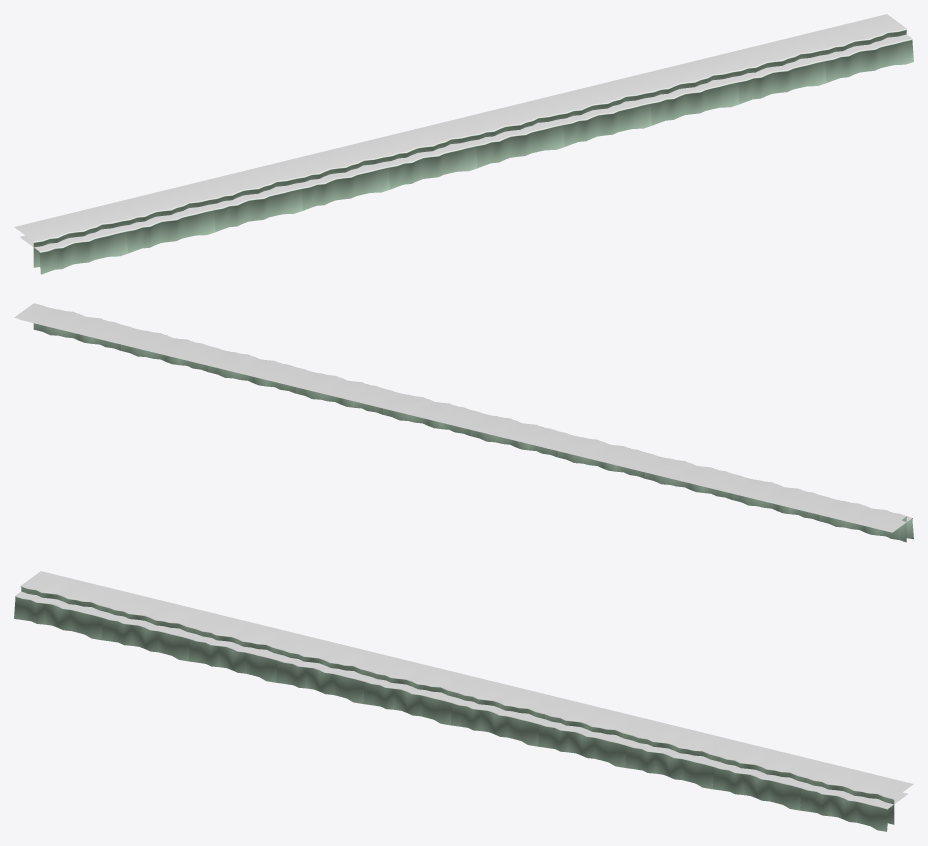
The model's file is SeaWallLeft.fbx.
The picture shows the model from 3 angles, top to bottom: view 1: azimuth 30°, elevation 25°; view 2: azimuth 150°, elevation 25°; view 3: azimuth 330°, elevation 25°; orthographic projection.
Parts seen in each view (by area): view 1: Sea Wall lLeft; view 2: Sea Wall lLeft; view 3: Sea Wall lLeft.
Boxes of the visible parts, left/top/right/bottom form: Sea Wall lLeft: left=14, top=14, right=913, bottom=274; Sea Wall lLeft: left=14, top=303, right=913, bottom=542; Sea Wall lLeft: left=14, top=571, right=913, bottom=831.
Size of the model in its own units: 10056 by 310 by 552.
